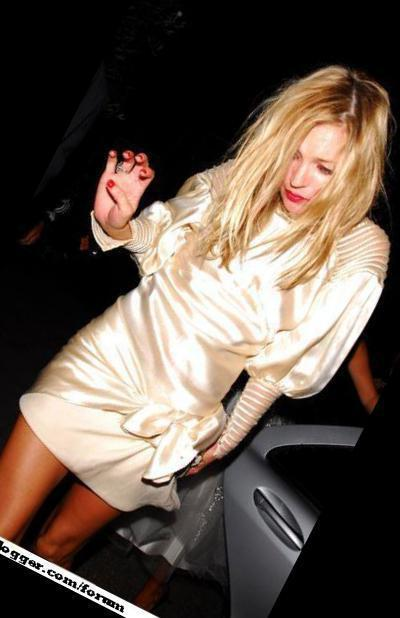Drunk: (285, 113, 338, 211)
